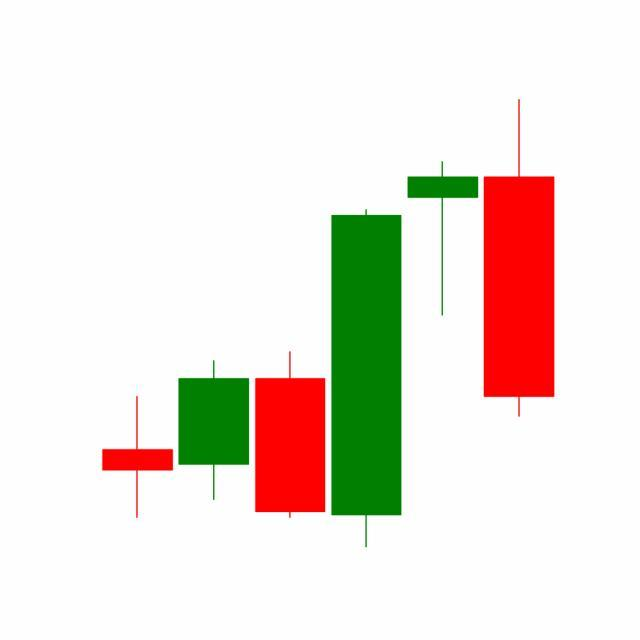Evening Doji Star: (326, 99, 555, 549)
